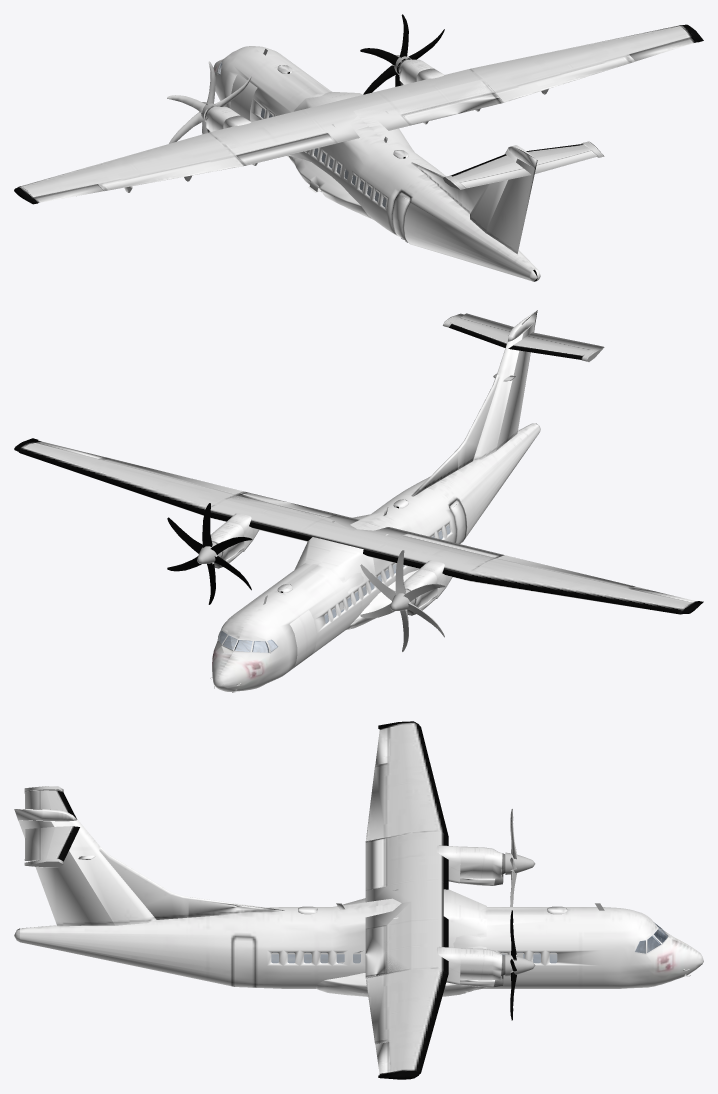
The model's file is atr42.glb.
3 views of the same model, one above another, from view 1: azimuth 30°, elevation 25°; view 2: azimuth 150°, elevation 25°; view 3: azimuth 270°, elevation 25° (orthographic). The views are drawn at different scales.
Visible parts, largest first — view 1: NoWindows, fuselage_036, cockpit_inside, Prop2; view 2: fuselage_036, NoWindows, cockpit_inside, Prop2, fuselage_074; view 3: fuselage_036, NoWindows, cockpit_inside, fuselage_074.
Part boxes in pixels (x1,y1,x2,y2): NoWindows: [14, 24, 703, 207]; fuselage_036: [205, 46, 540, 281]; cockpit_inside: [167, 49, 502, 191]; Prop2: [360, 14, 444, 94]; fuselage_036: [210, 310, 540, 691]; NoWindows: [14, 313, 703, 651]; cockpit_inside: [197, 375, 515, 692]; Prop2: [167, 503, 252, 604]; fuselage_074: [218, 525, 449, 652]; fuselage_036: [14, 809, 703, 996]; NoWindows: [24, 721, 662, 1079]; cockpit_inside: [336, 809, 667, 976]; fuselage_074: [271, 924, 667, 962].
Bounding box in the file's own units: 27.69 × 6.59 × 22.77.
4 materials, 3 textured.
